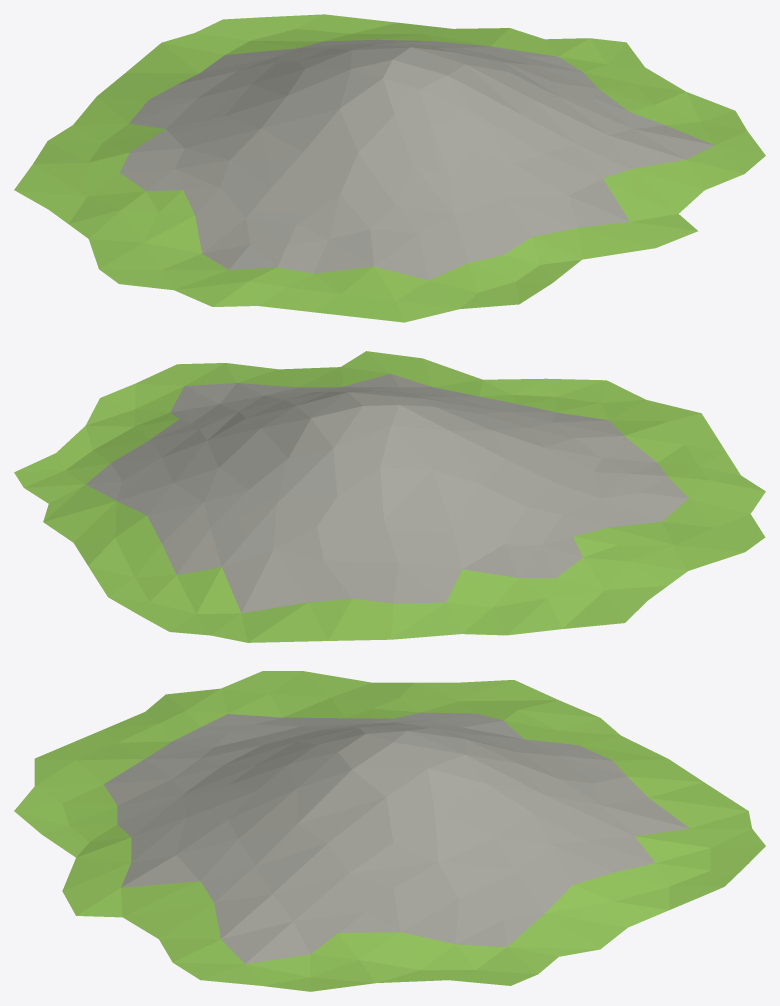
Rendered from mountain_m_a_09.glb.
3 renders of one model, top to bottom at view 1: azimuth 30°, elevation 25°; view 2: azimuth 150°, elevation 25°; view 3: azimuth 270°, elevation 25°, orthographic. The views are drawn at different scales.
Visible parts, largest first — view 1: CPT_Mountain_M_a_09; view 2: CPT_Mountain_M_a_09; view 3: CPT_Mountain_M_a_09.
Boxes of the visible parts, <box> form: CPT_Mountain_M_a_09: <box>14,14,765,322</box>; CPT_Mountain_M_a_09: <box>14,351,765,642</box>; CPT_Mountain_M_a_09: <box>14,671,765,991</box>.
Size of the model in its own units: 42.97 by 6.31 by 42.58.
Materials: 1 (1 with a texture image).
